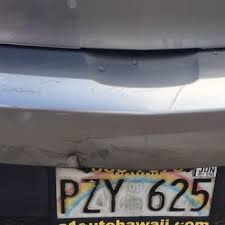Dent: (48, 151, 98, 167)
